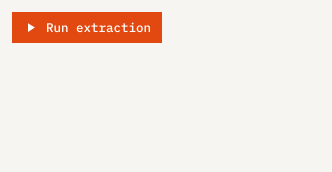
Test: failed blocks, by what a re-run would actually do › says nothing about failures when every block succeeded
Click the button "Run extraction".
click(87, 27)  # box top-left (12, 12), bottom-right (162, 43)
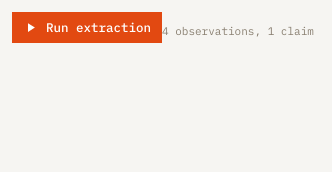
Expected: the text "4 observations, 1 claim" is shown, top-left (162, 24), bottom-right (314, 38)
